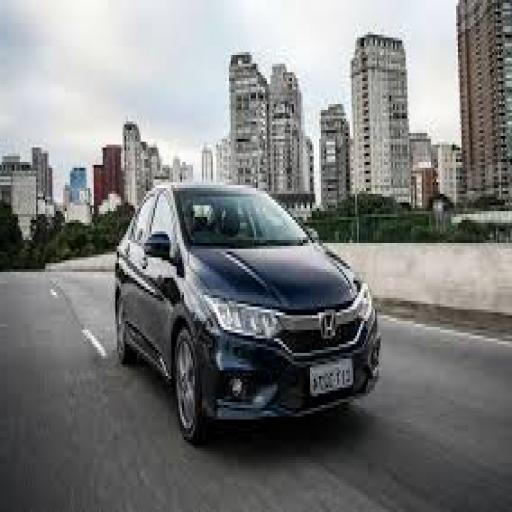License: (305, 353, 355, 400)
